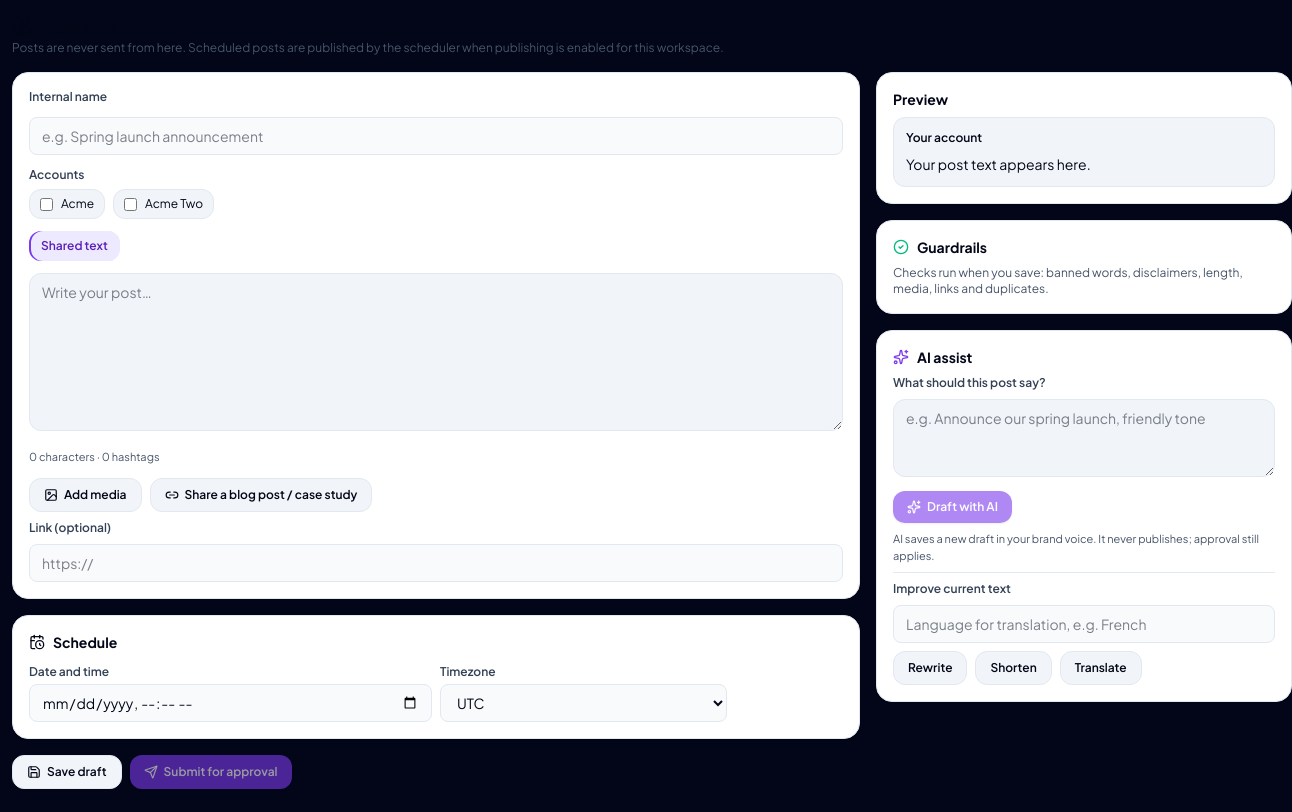
SocialComposerPage › shows per-account tabs, live counters against the network limit and a preview
Expected: the field labelled "Internal name" is shown, x1=29 y1=117 x2=843 y2=155
Click the checkbox labelled "Acme": (46, 204) x1=40 y1=198 x2=53 y2=210
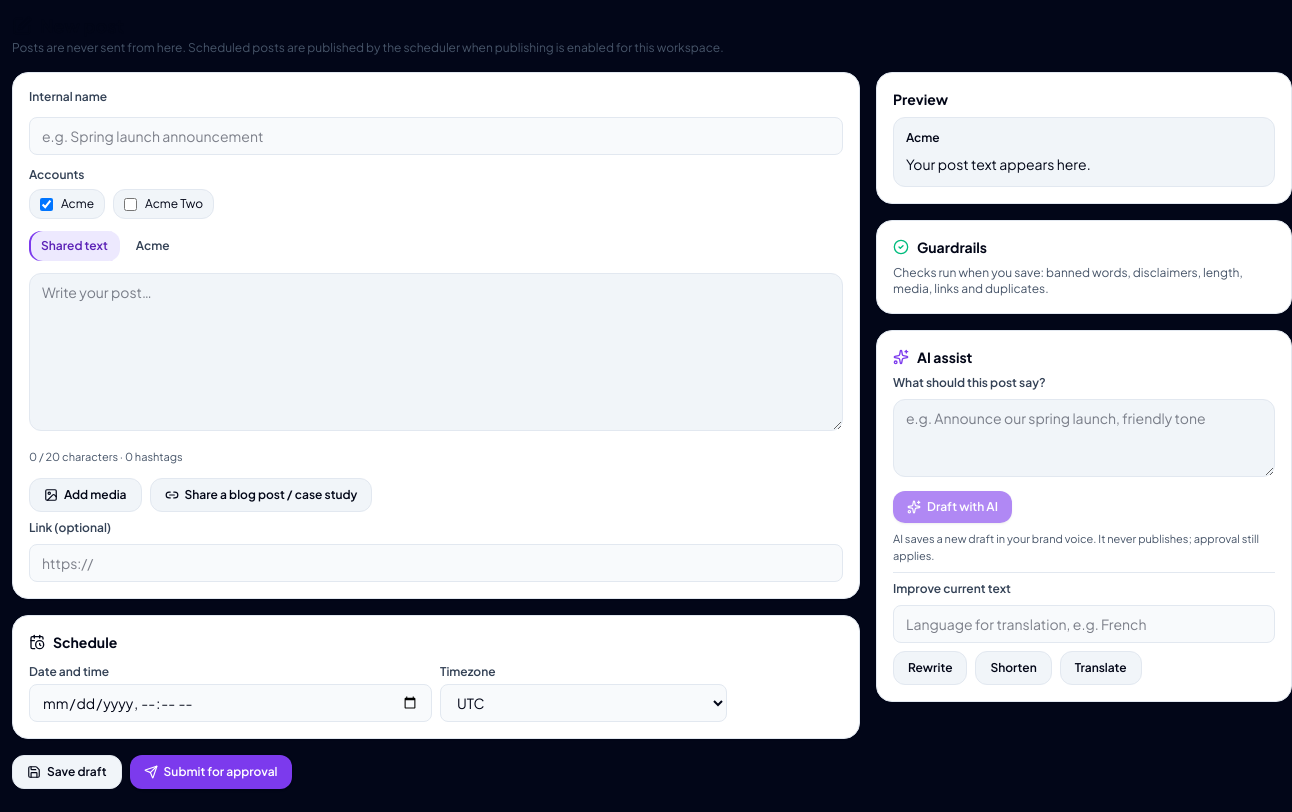
Click the checkbox labelled "Acme Two": (131, 204) x1=124 y1=198 x2=137 y2=210
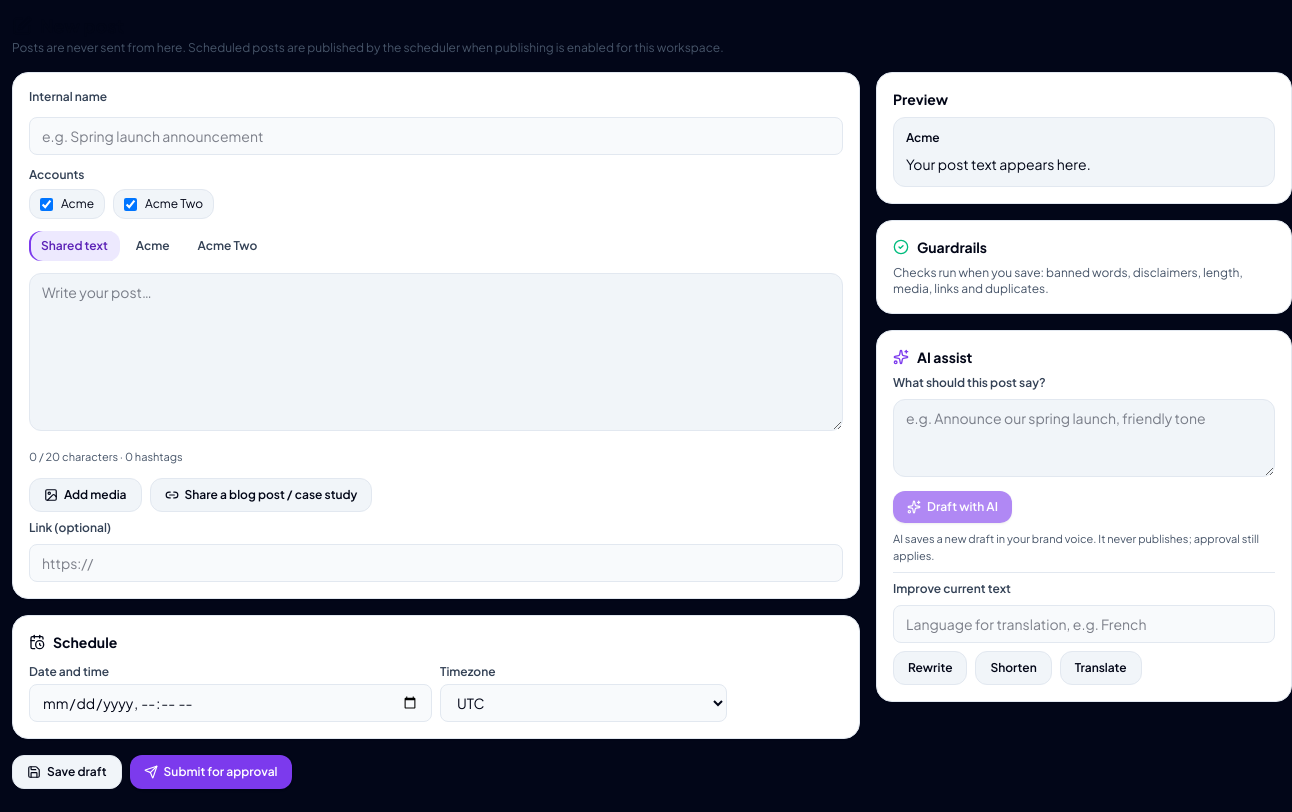
Expected: the tab "Shared text" is shown, x1=29 y1=231 x2=120 y2=261
Now the tab "Acme Two" is shown, box x1=186 y1=231 x2=269 y2=261
In the text box named "Post text": (436, 352) x1=29 y1=273 x2=843 y2=431, type "This text is definitely longer than twenty characters #a #b"
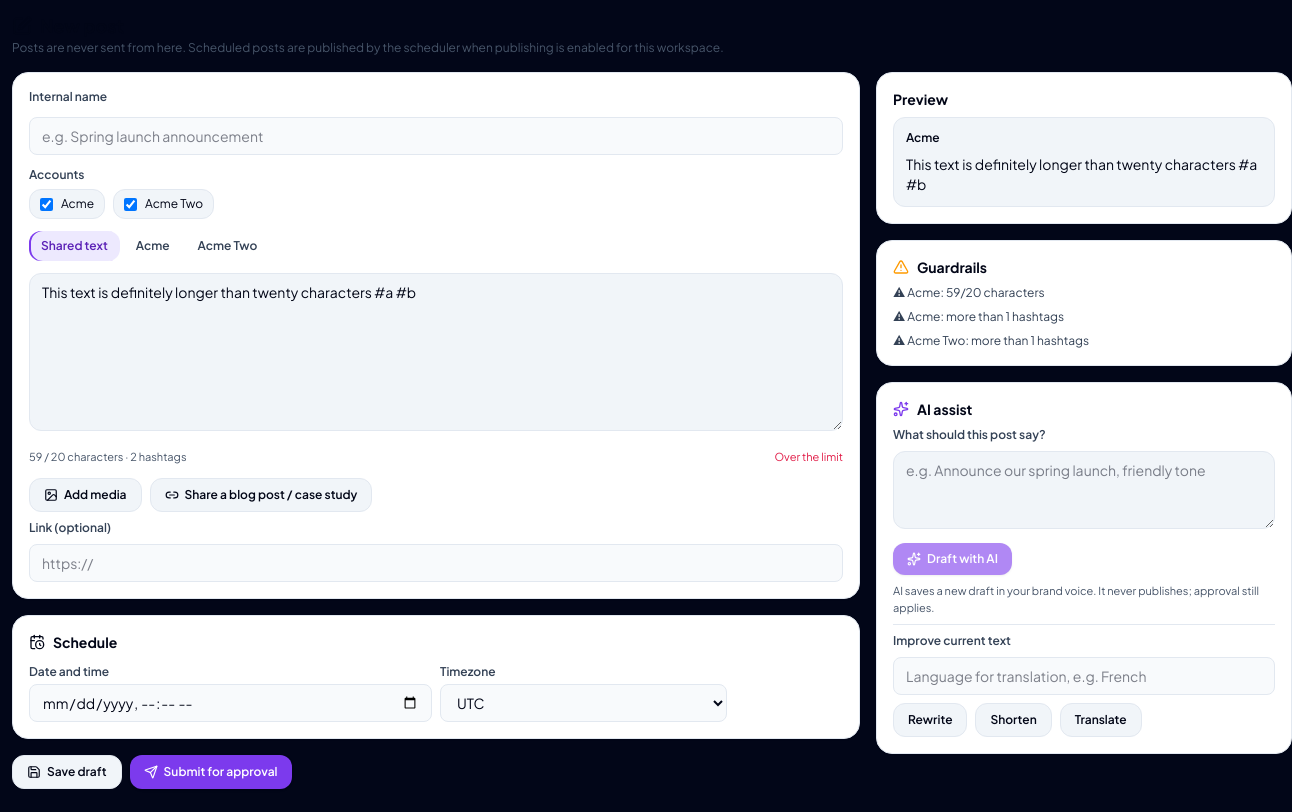
Now the text "59 / 20 characters · 2 hashtags" is shown, box x1=29 y1=449 x2=186 y2=466
Now the text "Over the limit" is shown, box x1=774 y1=449 x2=843 y2=466
Now the text "⚠ Acme: 59/20 characters" is shown, box x1=893 y1=285 x2=1045 y2=300
Click the tab "Acme Two": (227, 246) x1=186 y1=231 x2=269 y2=261
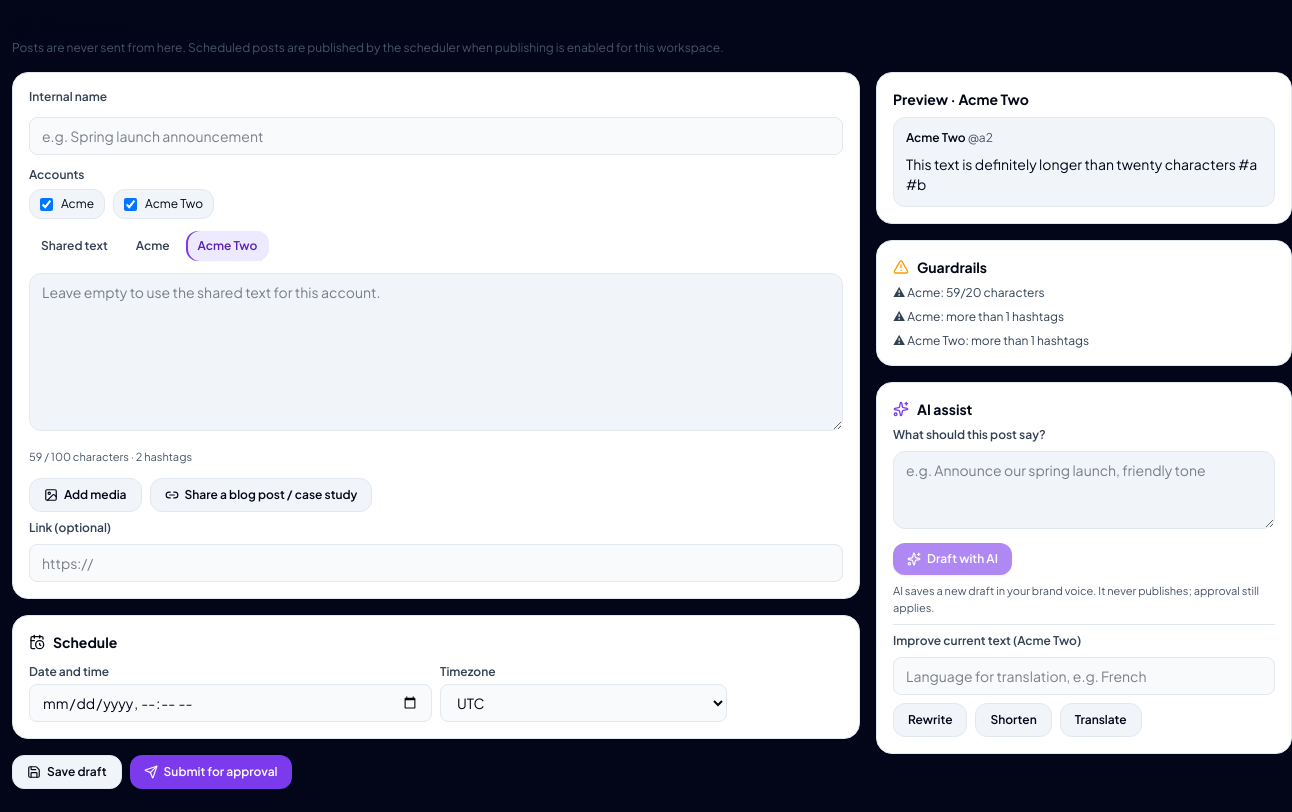
In the text box named "Post text": (436, 352) x1=29 y1=273 x2=843 y2=431, type "Short for two"
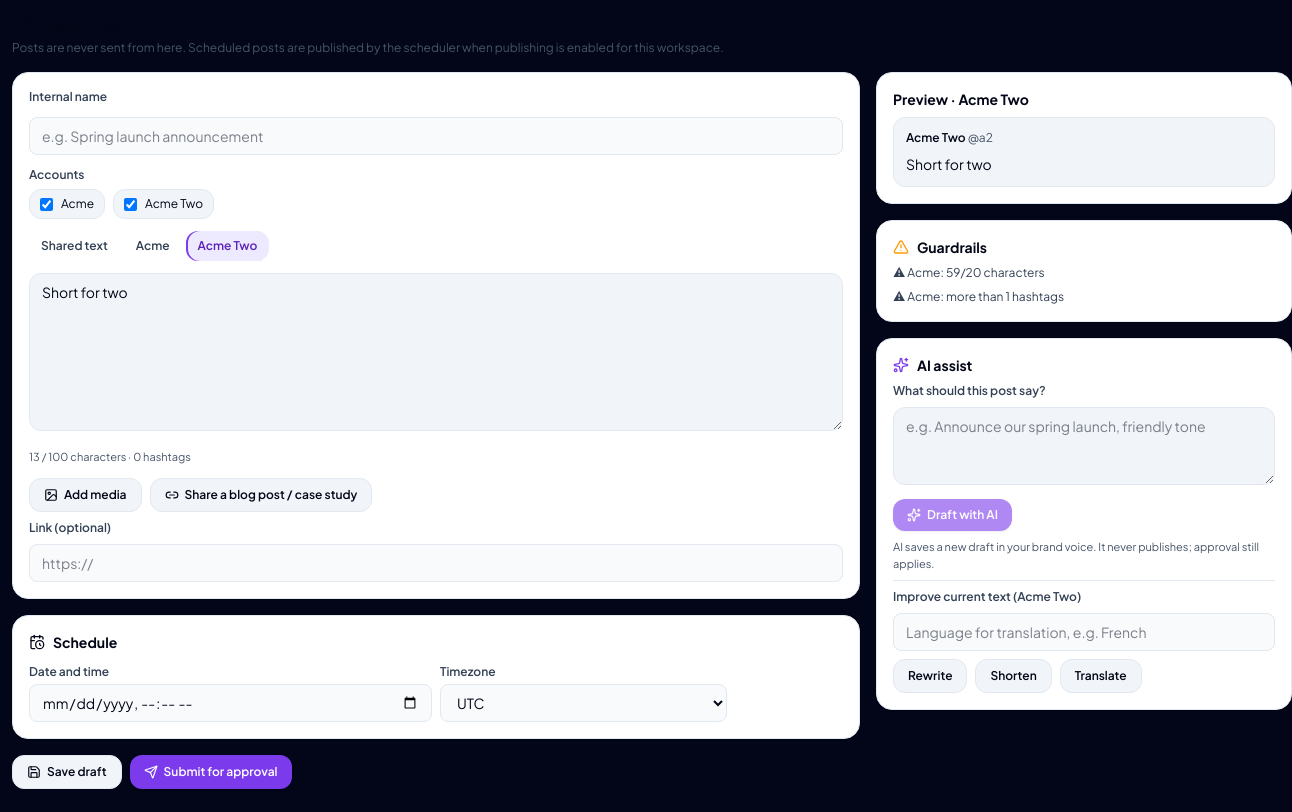
Now the text "Short for two" is shown, box x1=906 y1=155 x2=992 y2=173
